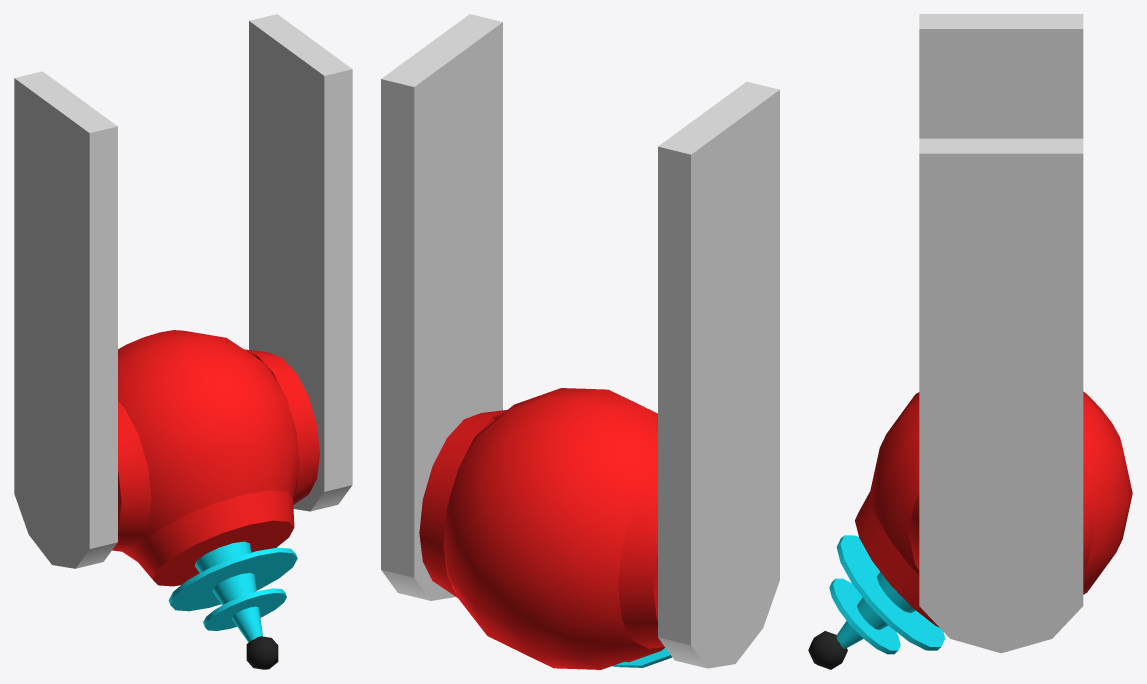
Rendered from ShrinkRay.FBX.
The picture shows the model from 3 angles, left to right: view 1: azimuth 30°, elevation 25°; view 2: azimuth 150°, elevation 25°; view 3: azimuth 270°, elevation 25°; orthographic projection. The views are drawn at different scales.
Parts seen in each view (by area): view 1: Shrink-Ray-Mount, Shrinkgun-, Rim-Bottom, Rim-Side, Halo, Rim-Side001, Cone001, Halo001, Sphere002; view 2: Shrink-Ray-Mount, Shrinkgun-, Rim-Side, Rim-Side001; view 3: Shrink-Ray-Mount, Shrinkgun-, Halo, Rim-Bottom, Halo001, Cone001, Rim-Side001, Sphere002.
Boxes of the visible parts, x1,y1,x2,y2 form: Shrink-Ray-Mount: (14, 14, 352, 568); Shrinkgun-: (118, 330, 299, 561); Rim-Bottom: (133, 490, 294, 586); Rim-Side: (112, 401, 151, 551); Halo: (168, 547, 297, 611); Rim-Side001: (244, 349, 319, 504); Cone001: (194, 541, 262, 642); Halo001: (203, 588, 286, 630); Sphere002: (246, 636, 278, 669); Shrink-Ray-Mount: (381, 14, 779, 668); Shrinkgun-: (443, 388, 657, 669); Rim-Side: (618, 471, 664, 648); Rim-Side001: (419, 410, 506, 597); Shrink-Ray-Mount: (919, 14, 1083, 653); Shrinkgun-: (869, 391, 1132, 594); Halo: (836, 535, 945, 650); Rim-Bottom: (855, 492, 939, 627); Halo001: (829, 578, 900, 654); Cone001: (836, 572, 915, 648); Rim-Side001: (908, 495, 1094, 569); Sphere002: (808, 631, 847, 669).
Size of the model in its own units: 30.31 by 59.22 by 29.79.
